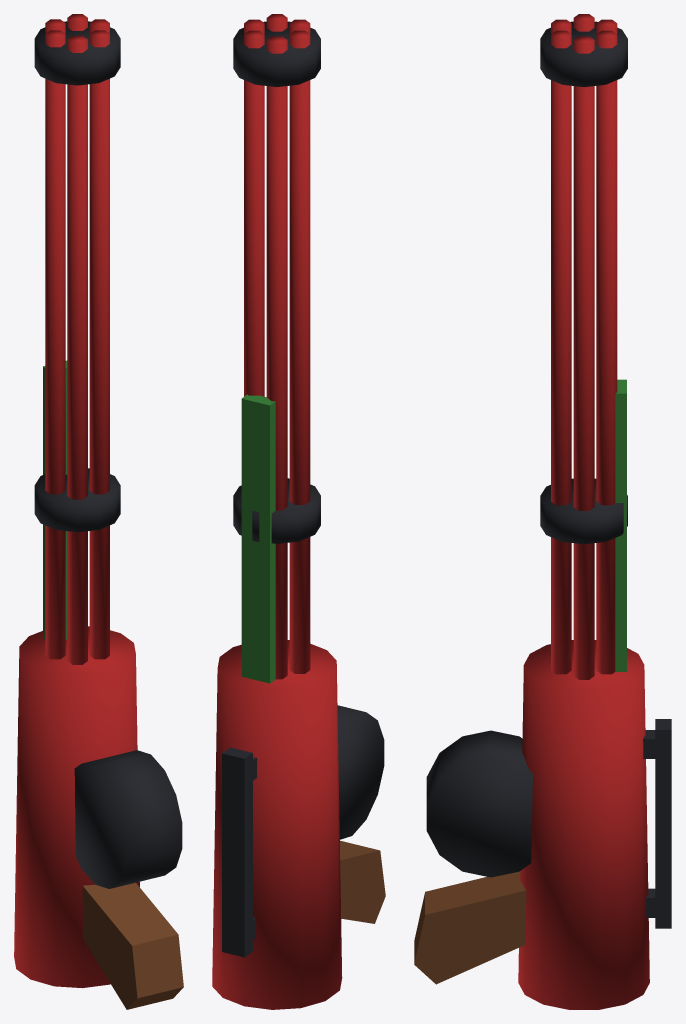
Rendered from elf_melter.glb.
The picture shows the model from 3 angles, left to right: view 1: azimuth 30°, elevation 25°; view 2: azimuth 150°, elevation 25°; view 3: azimuth 270°, elevation 25°; orthographic projection. The views are drawn at different scales.
Parts seen in each view (by area): view 1: elf_melter_v0; view 2: elf_melter_v0; view 3: elf_melter_v0.
Part boxes in pixels (bbox=[...]): elf_melter_v0: bbox=[14, 14, 183, 1009]; elf_melter_v0: bbox=[212, 14, 385, 1009]; elf_melter_v0: bbox=[414, 14, 671, 1009].
Size of the model in its own units: 0.117 by 0.96 by 0.235.
